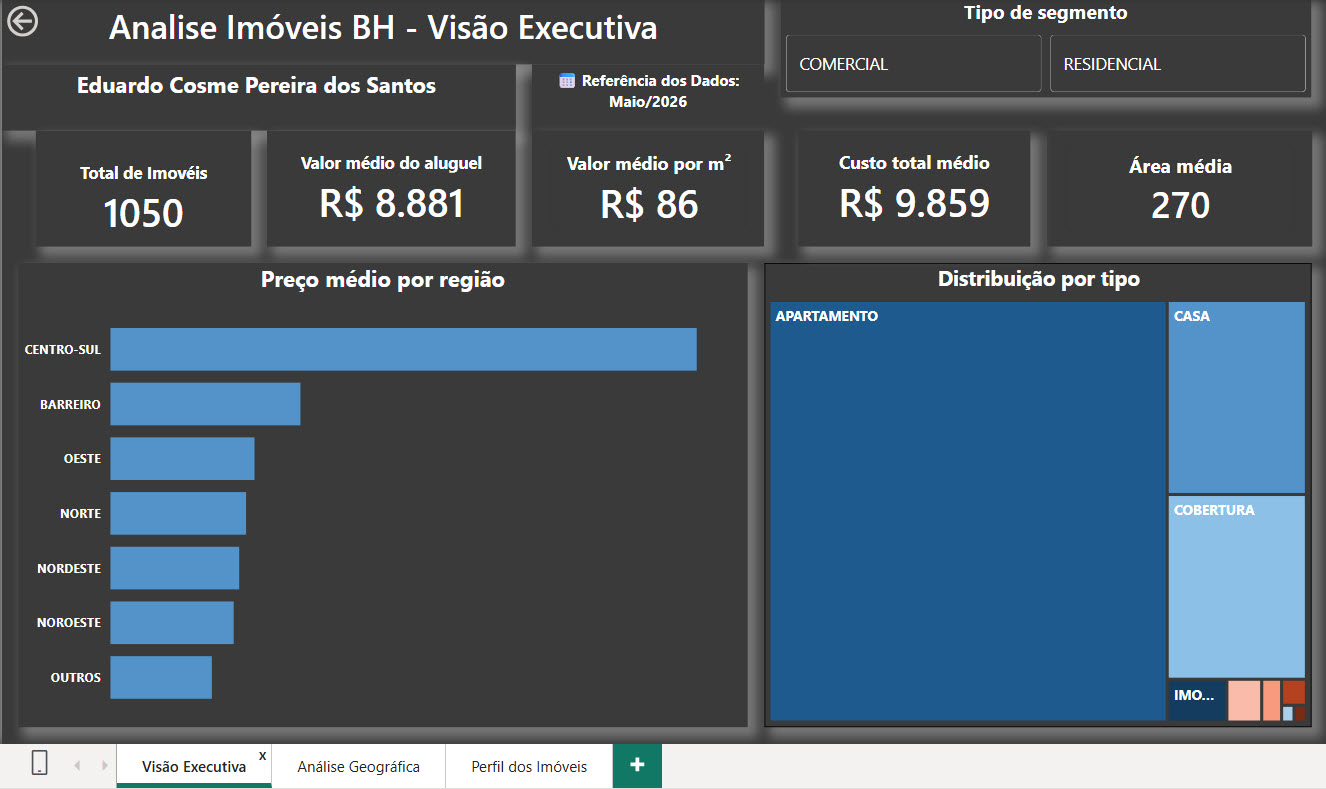

This screenshot's page, from the dashboard's own definition file:
{"tool":"powerbi","page":{"name":"Visão Executiva ","canvas":[1280,720],"ordinal":0},"visuals":[{"type":"textbox","title":"Analise  - Imóveis BH - Visão Geral","box":[0,0,736,64],"z":0},{"type":"textbox","title":"Eduardo Cosme Pereira dos Santos · ZAP Imóveis · 2026","box":[16,64,480,48],"z":1000},{"type":"textbox","title":"1050 imóveis analisados","box":[512,64,208,64],"z":2000},{"type":"cardVisual","title":"Total imóveis","fields":{"Data":["Count(zap_gold.ID)"]},"box":[32,128,208,112],"z":3000},{"type":"cardVisual","title":"Preço médio","fields":{"Data":["Avg(zap_gold.PRECO)"]},"box":[256,128,240,112],"z":4000},{"type":"cardVisual","title":"Valor médio m²","fields":{"Data":["Avg(zap_gold.VALOR_METRO_QUADRADO)"]},"box":[512,128,224,112],"z":5000},{"type":"clusteredBarChart","title":"Preço médio por região","fields":{"Category":["zap_media_regiao.REGIÃO"],"Y":["Avg(zap_gold.PRECO)"]},"box":[16,256,704,448],"z":6000},{"type":"cardVisual","title":"Area média","fields":{"Data":["Avg(zap_gold.AREA)"]},"box":[1008,128,256,112],"z":7000},{"type":"actionButton","box":[0,2.4,49.5,39.8],"z":8000},{"type":"treemap","title":"Distribuição por tipo","fields":{"Group":["zap_gold.TIPO_DE_IMOVEL"],"Values":["CountNonNull(zap_gold.ID)"]},"box":[736,256,528,448],"z":9000},{"type":"advancedSlicerVisual","title":"Tipo de segmento","fields":{"Values":["zap_gold.SEGMENTO"]},"box":[752,0,512,96],"z":10000},{"type":"cardVisual","title":"Valor médio m²","fields":{"Data":["Avg(zap_gold.CUSTO_TOTAL)"]},"box":[768,128,224,112],"z":11000}]}

Visuals, with their boxes on the page's 1280x720 design canvas (x1, y1, x2, y2). These are canvas units, not pixel positions in the 1326x789 screenshot, which may show the page scaled, cropped or inside an application window:
"Analise  - Imóveis BH - Visão Geral" textbox: bbox=(0, 0, 736, 64)
"Eduardo Cosme Pereira dos Santos · ZAP Imóveis · 2026" textbox: bbox=(16, 64, 496, 112)
"1050 imóveis analisados" textbox: bbox=(512, 64, 720, 128)
"Total imóveis" cardVisual: bbox=(32, 128, 240, 240)
"Preço médio" cardVisual: bbox=(256, 128, 496, 240)
"Valor médio m²" cardVisual: bbox=(512, 128, 736, 240)
"Preço médio por região" clusteredBarChart: bbox=(16, 256, 720, 704)
"Area média" cardVisual: bbox=(1008, 128, 1264, 240)
actionButton: bbox=(0, 2, 50, 42)
"Distribuição por tipo" treemap: bbox=(736, 256, 1264, 704)
"Tipo de segmento" advancedSlicerVisual: bbox=(752, 0, 1264, 96)
"Valor médio m²" cardVisual: bbox=(768, 128, 992, 240)
